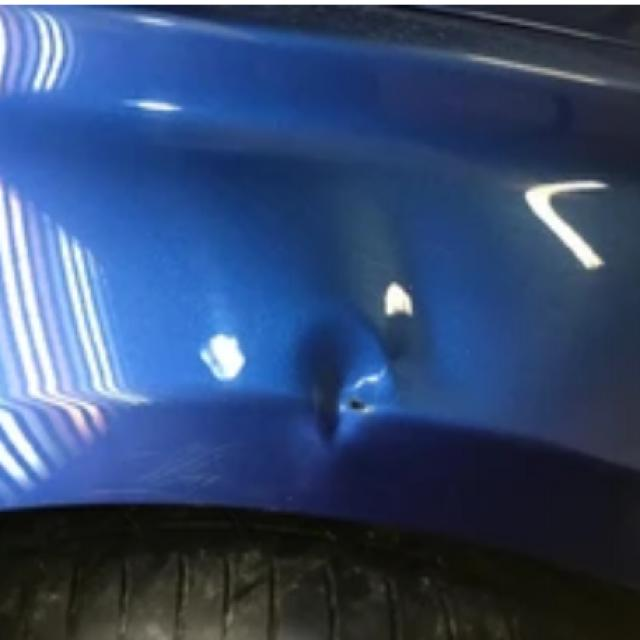dents: (249, 279, 429, 462)
